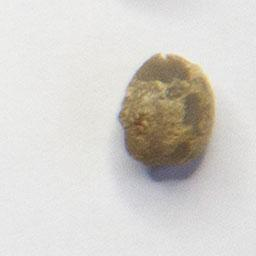peaberry: (115, 47, 218, 172)
